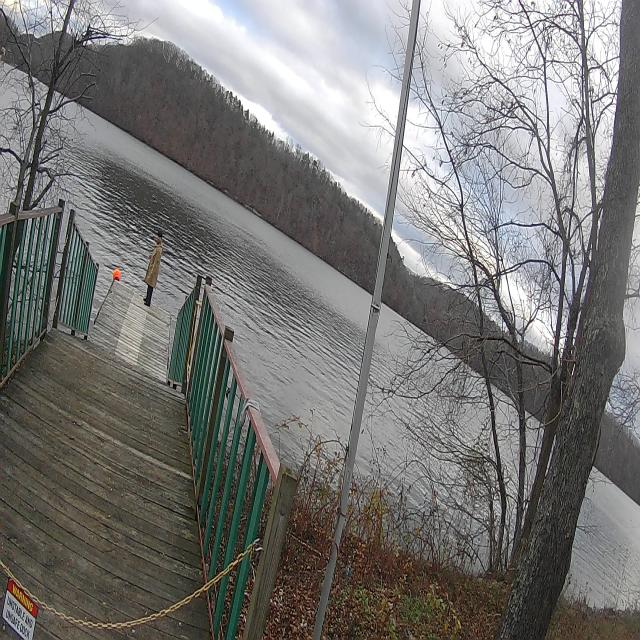Buoy: (110, 266, 123, 284)
